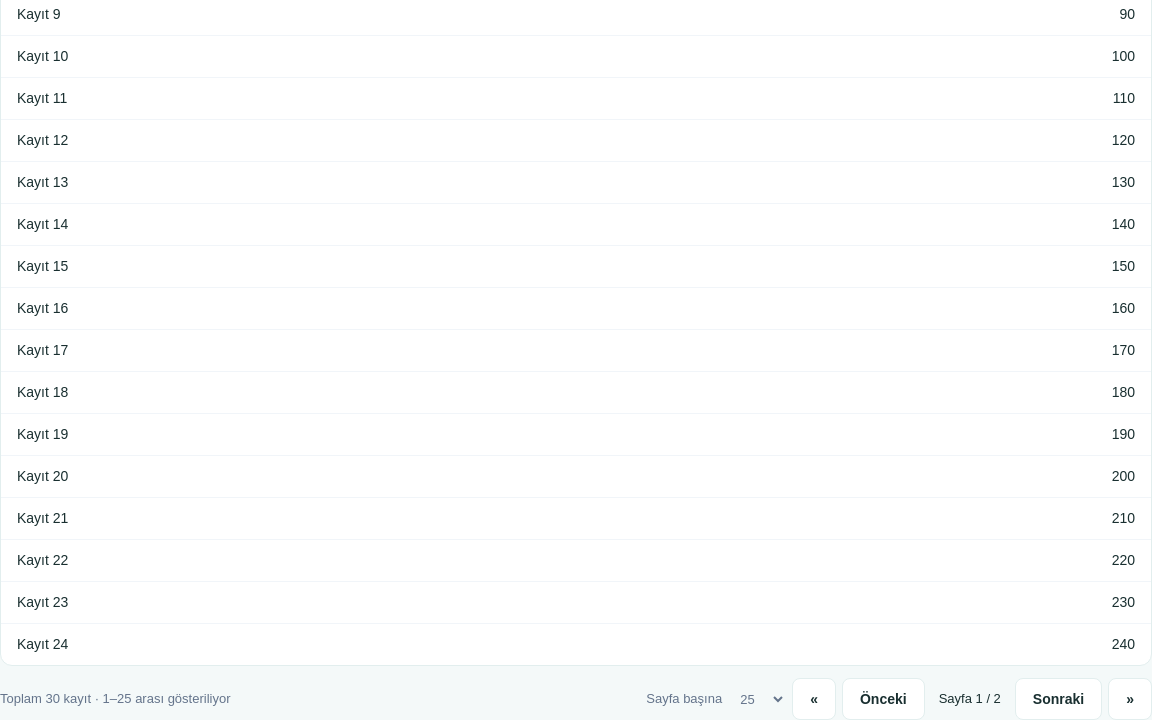
Test: DataTable — istemci kipi › son sayfada Sonraki, ilk sayfada Önceki kapalıdır
This screenshot has width=1152, height=720.
(page scrolled)
Expected: the button "Önceki" is disabled, x1=842 y1=678 x2=925 y2=719
Click the button "Sonraki".
click(1058, 699)  # box x1=1015 y1=678 x2=1102 y2=719
(page scrolled)
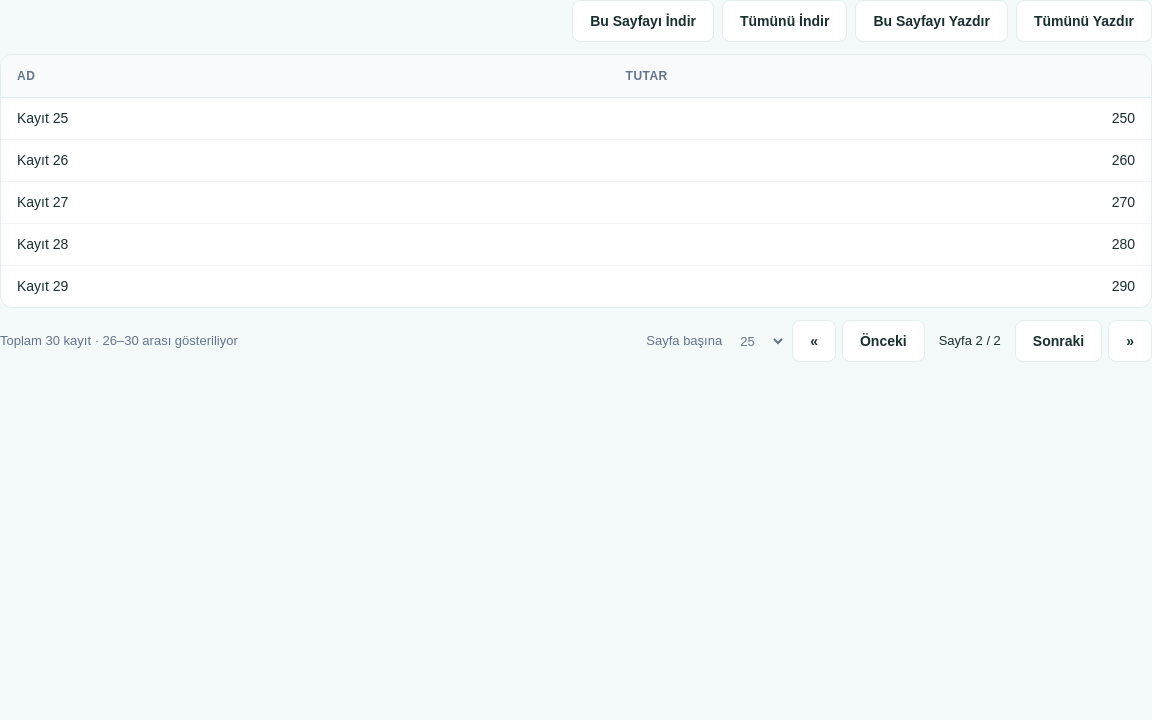
Now the button "Sonraki" is disabled, box x1=1015 y1=320 x2=1102 y2=362
Now the button "Önceki" is enabled, box x1=842 y1=320 x2=925 y2=362
